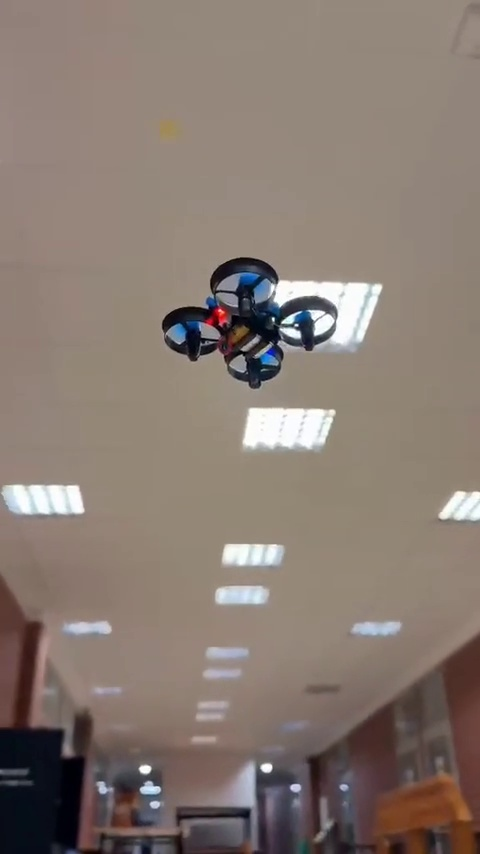drone: (162, 258, 336, 393)
